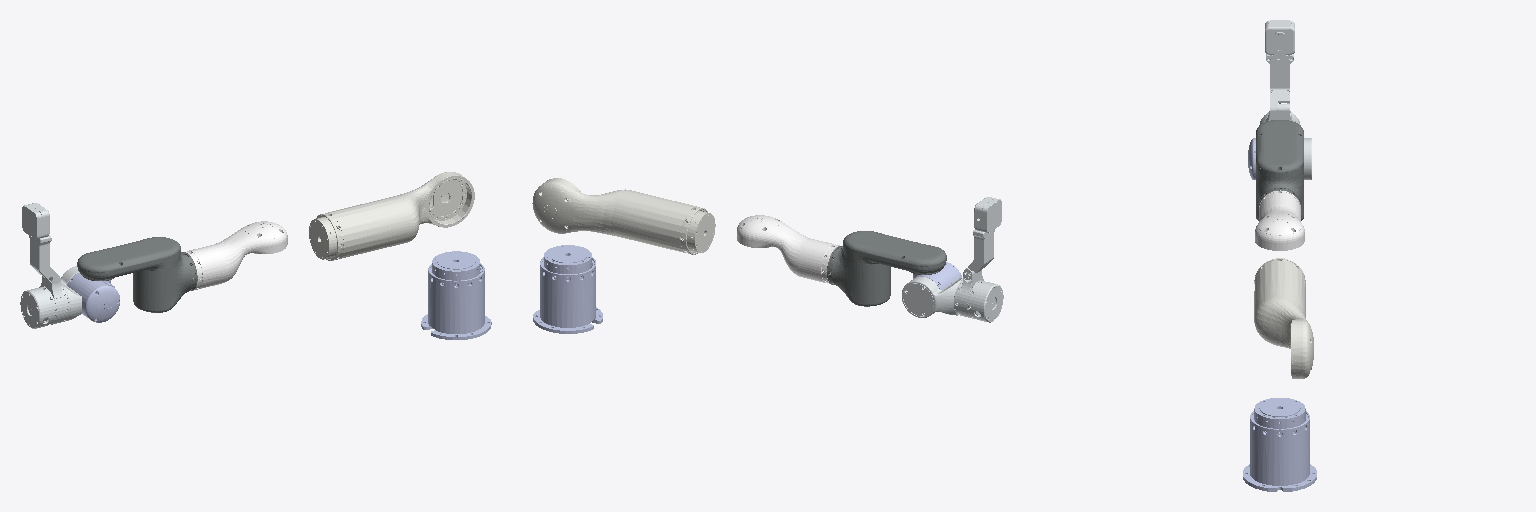
The robot description file, URDF, robot "RXL-B-V":
<?xml version="1.0" encoding="utf-8"?>
<!-- This URDF was automatically created by SolidWorks to URDF Exporter! Originally created by Stephen Brawner (brawner@gmail.com) 
     Commit Version: 1.6.0-4-g7f85cfe  Build Version: 1.6.7995.38578
     For more information, please see http://wiki.ros.org/sw_urdf_exporter -->
<robot
  name="RXL-B-V">
  <link
    name="base_link">
    <inertial>
      <origin
        xyz="-1.567E-3 0.482E-3 57.387E-3"
        rpy="0 0 0" />
      <mass
        value="1.36" />
      <inertia
        ixx="1538.061E-6"
        ixy="5.117E-6"
        ixz="-10.816E-6"
        iyy="1515.700E-6"
        iyz="26.121E-6"
        izz="1161.949E-6" />
    </inertial>
    <visual>
      <origin
        xyz="0 0 0"
        rpy="0 0 0" />
      <geometry>
        <mesh
          filename="package://RXL-B-V/meshes/base_link.STL" />
      </geometry>
      <material
        name="">
        <color
          rgba="0.792156862745098 0.819607843137255 0.933333333333333 1" />
      </material>
    </visual>
    <collision>
      <origin
        xyz="0 0 0"
        rpy="0 0 0" />
      <geometry>
        <mesh
          filename="package://RXL-B-V/meshes/base_link.STL" />
      </geometry>
    </collision>
  </link>
  <link
    name="Link1">
    <inertial>
      <origin
        xyz="-0.488E-3 -13.727E-3 -10.765E-3"
        rpy="0 0 0" />
      <mass
        value="1.559" />
      <inertia
        ixx="2661.923E-6"
        ixy="-31.029E-6"
        ixz="9.34E-6"
        iyy="2302.513E-6"
        iyz="151.466E-6"
        izz="1676.59E-6" />
    </inertial>
    <visual>
      <origin
        xyz="0 0 0"
        rpy="0 0 0" />
      <geometry>
        <mesh
          filename="package://RXL-B-V/meshes/Link1.STL" />
      </geometry>
      <material
        name="">
        <color
          rgba="0.925490196078431 0.925490196078431 0.905882352941176 1" />
      </material>
    </visual>
    <collision>
      <origin
        xyz="0 0 0"
        rpy="0 0 0" />
      <geometry>
        <mesh
          filename="package://RXL-B-V/meshes/Link1.STL" />
      </geometry>
    </collision>
  </link>
  <joint
    name="J1"
    type="revolute">
    <origin
      xyz="0 0 0.191500058118611"
      rpy="0 0 0" />
    <parent
      link="base_link" />
    <child
      link="Link1" />
    <axis
      xyz="0 0 1" />
    <limit
      lower="-3.0194"
      upper="3.0194"
      effort="60"
      velocity="3.14" />
  </joint>
  <link
    name="Link2">
    <inertial>
      <origin
        xyz="-0.112E-3 -148.134E-3 4.111E-3"
        rpy="0 0 0" />
      <mass
        value="1.394" />
      <inertia
        ixx="6927.314E-6"
        ixy="0.302E-6"
        ixz="-2.679E-6"
        iyy="1045.002E-6"
        iyz="-801.141E-6"
        izz="6864.526E-6" />
    </inertial>
    <visual>
      <origin
        xyz="0 0 0"
        rpy="0 0 0" />
      <geometry>
        <mesh
          filename="package://RXL-B-V/meshes/Link2.STL" />
      </geometry>
      <material
        name="">
        <color
          rgba="0.925490196078431 0.925490196078431 0.905882352941176 1" />
      </material>
    </visual>
    <collision>
      <origin
        xyz="0 0 0"
        rpy="0 0 0" />
      <geometry>
        <mesh
          filename="package://RXL-B-V/meshes/Link2.STL" />
      </geometry>
    </collision>
  </link>
  <joint
    name="J2"
    type="revolute">
    <origin
      xyz="0 0 0"
      rpy="-1.57079632679489 -1.5707963267949 0" />
    <parent
      link="Link1" />
    <child
      link="Link2" />
    <axis
      xyz="0 0 1" />
    <limit
      lower="-0.6109"
      upper="3.1067"
      effort="60"
      velocity="3.14" />
  </joint>
  <link
    name="Link3">
    <inertial>
      <origin
        xyz="0.032E-3 15.649E-3 -11.225E-3"
        rpy="0 0 0" />
      <mass
        value="1.117" />
      <inertia
        ixx="1757.334E-6"
        ixy="0.706E-6"
        ixz="3.864E-6"
        iyy="1468.535E-6"
        iyz="-112.641E-6"
        izz="979.743E-6" />
    </inertial>
    <visual>
      <origin
        xyz="0 0 0"
        rpy="0 0 0" />
      <geometry>
        <mesh
          filename="package://RXL-B-V/meshes/Link3.STL" />
      </geometry>
      <material
        name="">
        <color
          rgba="0.925490196078431 0.925490196078431 0.905882352941176 1" />
      </material>
    </visual>
    <collision>
      <origin
        xyz="0 0 0"
        rpy="0 0 0" />
      <geometry>
        <mesh
          filename="package://RXL-B-V/meshes/Link3.STL" />
      </geometry>
    </collision>
  </link>
  <joint
    name="J3"
    type="revolute">
    <origin
      xyz="0 -0.322 0"
      rpy="1.5708 -1.5708 0" />
    <parent
      link="Link2" />
    <child
      link="Link3" />
    <axis
      xyz="0 0 1" />
    <limit
      lower="-3.0194"
      upper="3.0194"
      effort="30"
      velocity="3.925" />
  </joint>
  <link
    name="Link4">
    <inertial>
      <origin
        xyz="-0.001E-3 85.449E-3 4.844E-3"
        rpy="0 0 0" />
      <mass
        value="0.673" />
      <inertia
        ixx="1283.435E-6"
        ixy="-0.072E-6"
        ixz="0.003E-6"
        iyy="344.097E-6"
        iyz="229.828E-6"
        izz="1257.753E-6" />
    </inertial>
    <visual>
      <origin
        xyz="0 0 0"
        rpy="0 0 0" />
      <geometry>
        <mesh
          filename="package://RXL-B-V/meshes/Link4.STL" />
      </geometry>
      <material
        name="">
        <color
          rgba="1 1 1 1" />
      </material>
    </visual>
    <collision>
      <origin
        xyz="0 0 0"
        rpy="0 0 0" />
      <geometry>
        <mesh
          filename="package://RXL-B-V/meshes/Link4.STL" />
      </geometry>
    </collision>
  </link>
  <joint
    name="J4"
    type="revolute">
    <origin
      xyz="0 0 0"
      rpy="1.5707963267949 0 0" />
    <parent
      link="Link3" />
    <child
      link="Link4" />
    <axis
      xyz="0 0 1" />
    <limit
      lower="-2.2689"
      upper="0.2618"
      effort="30"
      velocity="3.925" />
  </joint>
  <link
    name="Link5">
    <inertial>
      <origin
        xyz="-0.001E-3 -14.741E-3 -80.627E-3"
        rpy="0 0 0" />
      <mass
        value="1.13" />
      <inertia
        ixx="2343.205E-6"
        ixy="0.074E-6"
        ixz="-0.026E-6"
        iyy="1934.356E-6"
        iyz="443.762E-6"
        izz="1091.781E-6" />
    </inertial>
    <visual>
      <origin
        xyz="0 0 0"
        rpy="0 0 0" />
      <geometry>
        <mesh
          filename="package://RXL-B-V/meshes/Link5.STL" />
      </geometry>
      <material
        name="">
        <color
          rgba="0.52941 0.54902 0.54902 1" />
      </material>
    </visual>
    <collision>
      <origin
        xyz="0 0 0"
        rpy="0 0 0" />
      <geometry>
        <mesh
          filename="package://RXL-B-V/meshes/Link5.STL" />
      </geometry>
    </collision>
  </link>
  <joint
    name="J5"
    type="revolute">
    <origin
      xyz="0 0.2755 0"
      rpy="-1.5707963267949 0 0" />
    <parent
      link="Link4" />
    <child
      link="Link5" />
    <axis
      xyz="0 0 1" />
    <limit
      lower="-3.0194"
      upper="3.0194"
      effort="10"
      velocity="3.925" />
  </joint>
  <link
    name="Link6">
    <inertial>
      <origin
        xyz="13.909E-3 -1.02E-3 3.245E-3"
        rpy="0 0 0" />
      <mass
        value="0.559" />
      <inertia
        ixx="354.166E-6"
        ixy="0.248E-6"
        ixz="27.608E-6"
        iyy="288.125E-6"
        iyz="-0.694E-6"
        izz="312.482E-6" />
    </inertial>
    <visual>
      <origin
        xyz="0 0 0"
        rpy="0 0 0" />
      <geometry>
        <mesh
          filename="package://RXL-B-V/meshes/Link6.STL" />
      </geometry>
      <material
        name="">
        <color
          rgba="0.792156862745098 0.819607843137255 0.933333333333333 1" />
      </material>
    </visual>
    <collision>
      <origin
        xyz="0 0 0"
        rpy="0 0 0" />
      <geometry>
        <mesh
          filename="package://RXL-B-V/meshes/Link6.STL" />
      </geometry>
    </collision>
  </link>
  <joint
    name="J6"
    type="revolute">
    <origin
      xyz="0 0 0"
      rpy="1.57079632679489 -1.5707963267949 0" />
    <parent
      link="Link5" />
    <child
      link="Link6" />
    <axis
      xyz="0 0 1" />
    <limit
      lower="-0.9599"
      upper="0.9599"
      effort="10"
      velocity="3.925" />
  </joint>
  <link
    name="Link7">
    <inertial>
      <origin
        xyz="17.868E-3 -73.211E-3 4.929E-3"
        rpy="0 0 0" />
      <mass
        value="0.433" />
      <inertia
        ixx="853.609E-6"
        ixy="338.066E-6"
        ixz="36.195E-6"
        iyy="513.453E-6"
        iyz="-136.652E-6"
        izz="1100.687E-6" />
    </inertial>
    <visual>
      <origin
        xyz="0 0 0"
        rpy="0 0 0" />
      <geometry>
        <mesh
          filename="package://RXL-B-V/meshes/Link7.STL" />
      </geometry>
      <material
        name="">
        <color
          rgba="0.898039215686275 0.917647058823529 0.929411764705882 1" />
      </material>
    </visual>
    <collision>
      <origin
        xyz="0 0 0"
        rpy="0 0 0" />
      <geometry>
        <mesh
          filename="package://RXL-B-V/meshes/Link7.STL" />
      </geometry>
    </collision>
  </link>
  <joint
    name="J7"
    type="revolute">
    <origin
      xyz="0.0155 0 0"
      rpy="1.57079632679489 -1.5707963267949 0" />
    <parent
      link="Link6" />
    <child
      link="Link7" />
    <axis
      xyz="0 0 1" />
    <limit
      lower="-1.9024"
      upper="0.6109"
      effort="10"
      velocity="3.925" />
  </joint>
  <link
    name="Link8">
    <inertial>
      <origin
        xyz="0 0 0"
        rpy="0 0 0" />
      <mass
        value="0" />
      <inertia
        ixx="0"
        ixy="0"
        ixz="0"
        iyy="0"
        iyz="0"
        izz="0" />
    </inertial>
    <visual>
      <origin
        xyz="0 0 0"
        rpy="0 0 0" />
      <geometry>
        <mesh
          filename="package://RXL-B-V/meshes/Link8.STL" />
      </geometry>
      <material
        name="">
        <color
          rgba="0.898039215686275 0.917647058823529 0.929411764705882 1" />
      </material>
    </visual>
    <collision>
      <origin
        xyz="0 0 0"
        rpy="0 0 0" />
      <geometry>
        <mesh
          filename="package://RXL-B-V/meshes/Link8.STL" />
      </geometry>
    </collision>
  </link>
  <joint
    name="J8"
    type="fixed">
    <origin
      xyz="0.000150519230103341 -0.101800004117148 -0.00015051923075171"
      rpy="1.57079632679489 0 0" />
    <parent
      link="Link7" />
    <child
      link="Link8" />
    <axis
      xyz="0 0 1" />
    <limit
      lower="0"
      upper="0"
      effort="0"
      velocity="0" />
  </joint>
</robot>

--- Facts derived from the render (not from the file) ---
3 views of the same robot in one strip: view 1: azimuth 30°, elevation 25°; view 2: azimuth 150°, elevation 25°; view 3: azimuth 270°, elevation 25° (orthographic).
Robot: RXL-B-V — 9 links, 8 joints (7 revolute, 1 fixed); root link base_link; default pose: all joints at 0.
Visible links, largest first — view 1: Link2, Link5, base_link, Link4, Link7, Link6, Link8; view 2: Link2, Link5, base_link, Link7, Link4, Link8; view 3: base_link, Link2, Link5, Link7, Link4.
Link boxes in pixels (box(x1,y1,x2,y2)): Link2: box(309, 172, 474, 260); Link5: box(77, 237, 196, 312); base_link: box(421, 251, 491, 339); Link4: box(185, 221, 287, 290); Link7: box(22, 203, 81, 324); Link6: box(67, 272, 119, 322); Link8: box(20, 287, 56, 328); Link2: box(532, 178, 715, 254); Link5: box(827, 231, 946, 306); base_link: box(533, 245, 602, 333); Link7: box(902, 197, 1001, 317); Link4: box(737, 215, 839, 284); Link8: box(967, 280, 1003, 322); base_link: box(1243, 398, 1316, 491); Link2: box(1254, 258, 1313, 378); Link5: box(1256, 120, 1303, 220); Link7: box(1265, 20, 1311, 179); Link4: box(1255, 190, 1304, 250).
Bounding box of the posed robot: 0.7634 × 0.1019 × 0.3525 m (x, y, z).
7 mesh visuals loaded from 9 distinct referenced files (7 binary STL); not drawn: 2 (reference not matched to a file when rendering).
